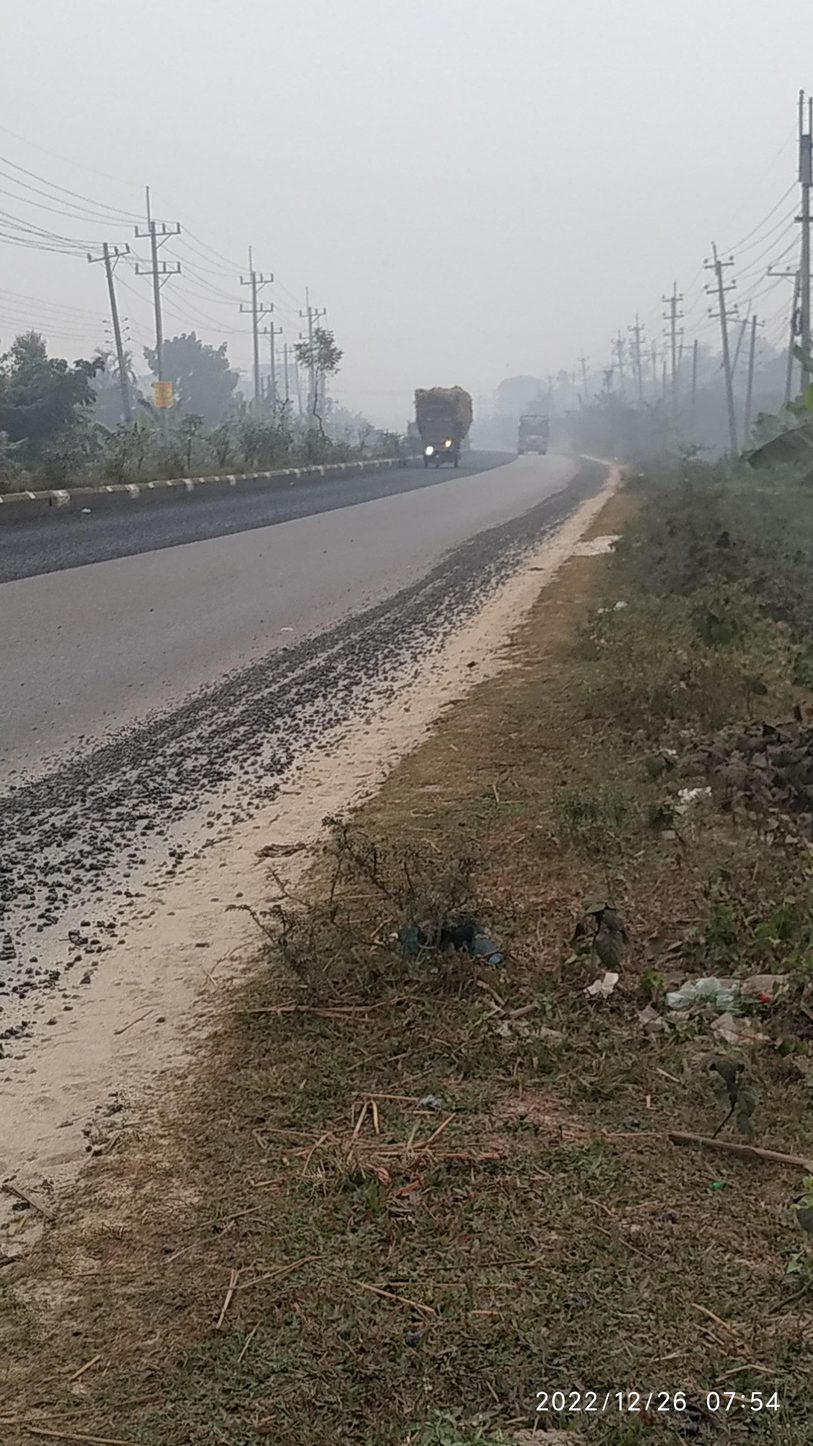Bus: (512, 390, 563, 476)
Truck: (412, 375, 485, 483)
